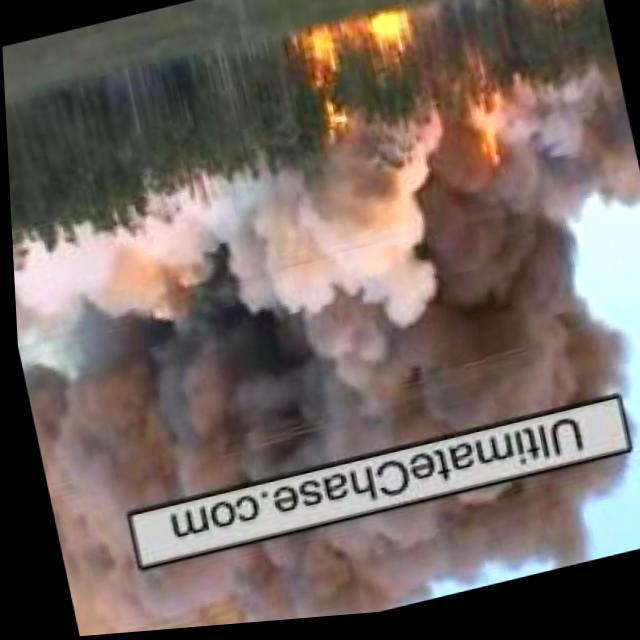fire: (294, 17, 424, 147), (450, 82, 508, 195), (540, 0, 580, 24)
